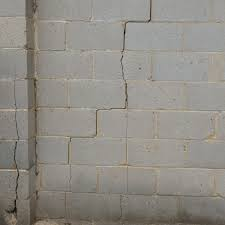crack: (4, 77, 17, 220)
stairstep_crack: (64, 0, 153, 164)
